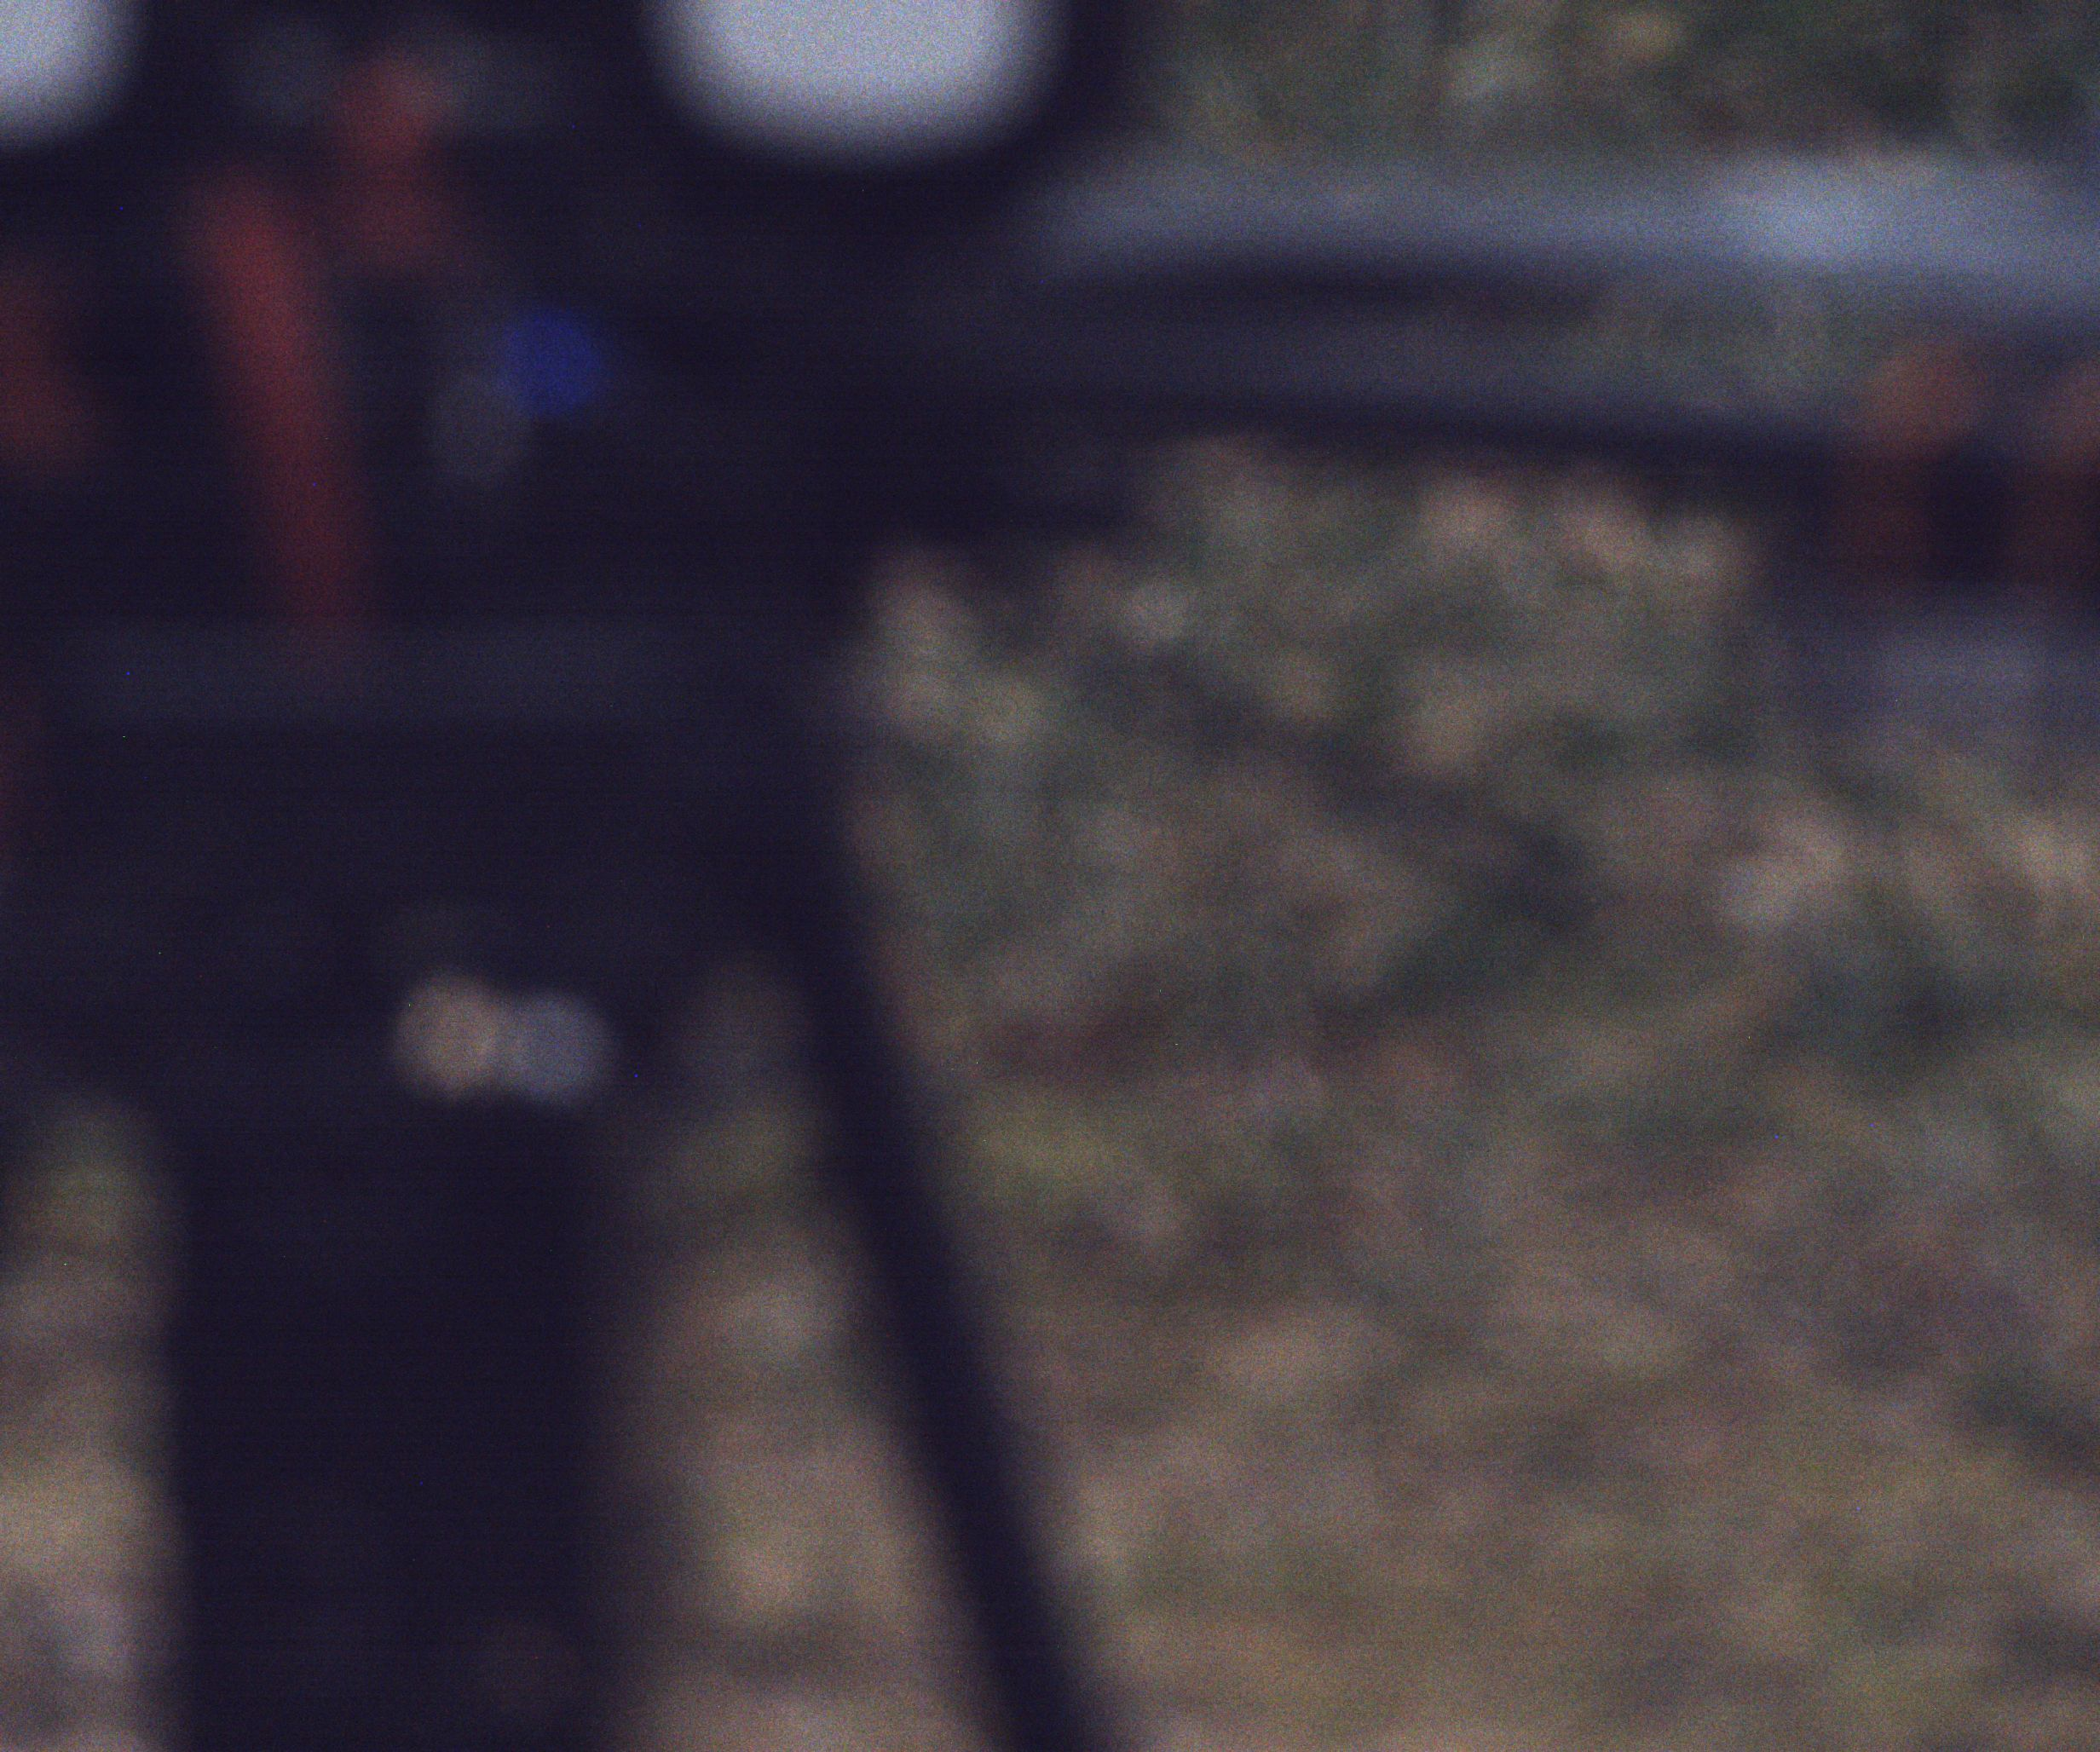Drohne: (17, 10, 2086, 1724)
